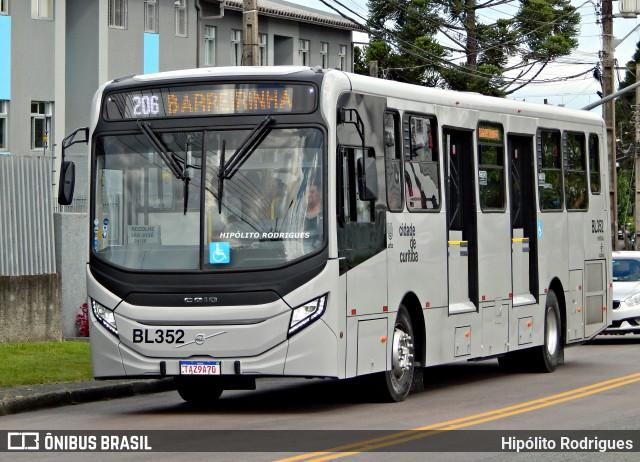BARREIRINHA: (160, 83, 296, 117)
